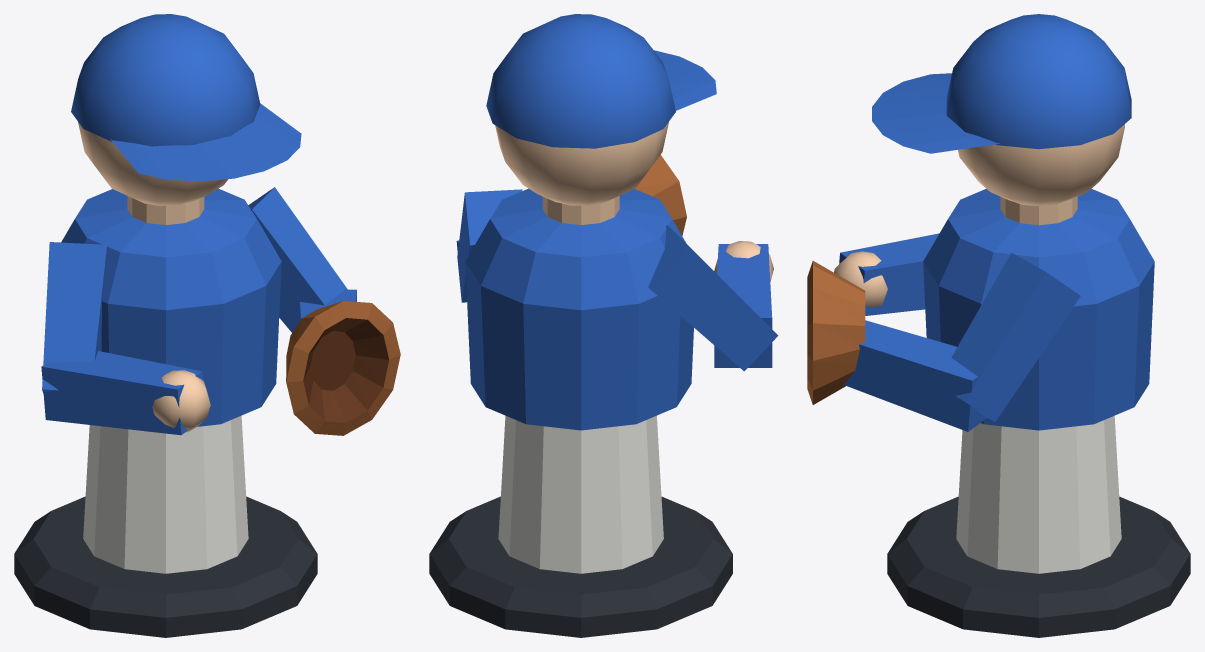
The model's file is fielder_blue.obj.
3 renders of one model, left to right at view 1: azimuth 30°, elevation 25°; view 2: azimuth 150°, elevation 25°; view 3: azimuth 270°, elevation 25°, orthographic.
Visible parts, largest first — view 1: team_blue, fig_base, pants, skin, glove_pocket, glove; view 2: team_blue, fig_base, pants, skin, glove; view 3: team_blue, fig_base, pants, skin, glove.
Part boxes in pixels (x1,y1,x2,y2): team_blue: [41, 14, 356, 435]; fig_base: [14, 496, 317, 637]; pants: [83, 415, 248, 573]; skin: [78, 122, 228, 432]; glove_pocket: [303, 318, 388, 422]; glove: [286, 301, 400, 435]; team_blue: [456, 14, 778, 430]; fig_base: [429, 496, 732, 637]; pants: [498, 415, 663, 573]; skin: [495, 122, 773, 281]; glove: [635, 155, 686, 235]; team_blue: [839, 14, 1154, 431]; fig_base: [887, 496, 1190, 637]; pants: [956, 416, 1121, 573]; skin: [834, 124, 1124, 306]; glove: [807, 261, 865, 404].
Bounding box in the file's own units: 1.34 × 2.2 × 1.39.
